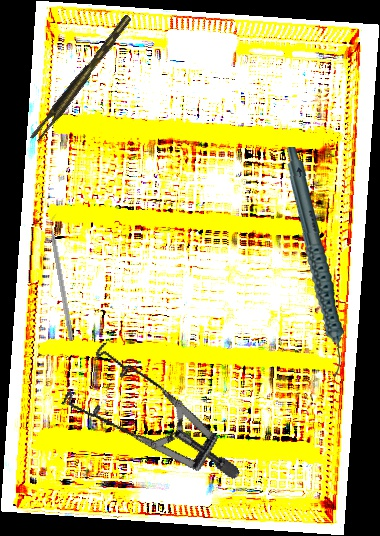Chopper: (46, 212, 82, 342)
Handpiece: (282, 146, 348, 378)
Speculum: (45, 314, 242, 531)
Tissue Forceps: (25, 14, 139, 144)
